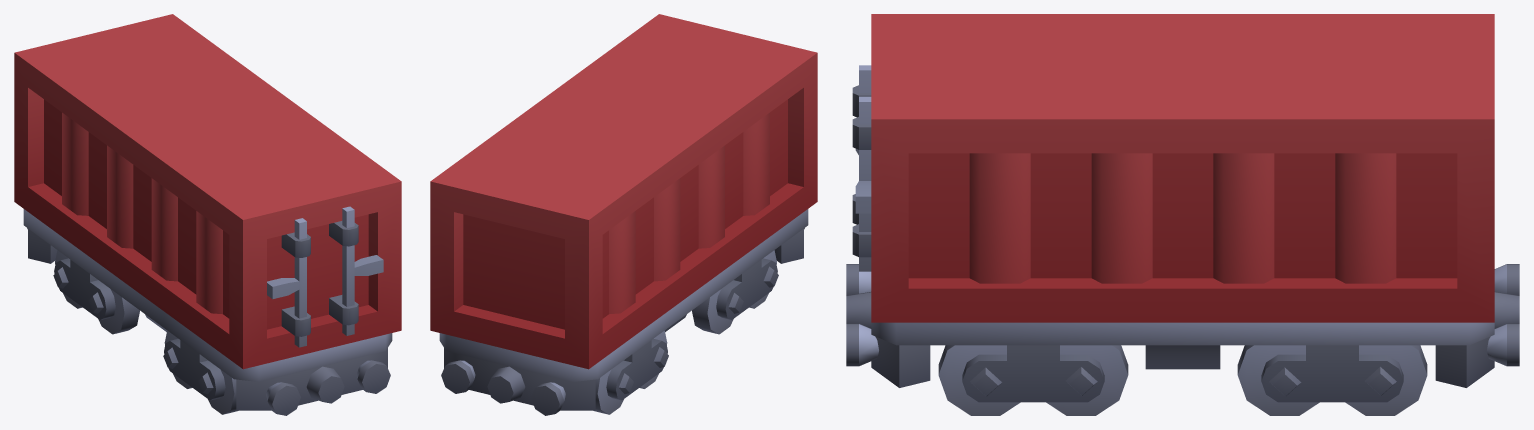
The model's file is train-carriage-container-red.glb.
The picture shows the model from 3 angles, left to right: view 1: azimuth 30°, elevation 25°; view 2: azimuth 150°, elevation 25°; view 3: azimuth 270°, elevation 25°; orthographic projection. The views are drawn at different scales.
Visible parts, largest first — view 1: cargo, train-carriage-container-red, wheels-back, wheels-front; view 2: cargo, train-carriage-container-red, wheels-front, wheels-back; view 3: cargo, train-carriage-container-red, wheels-back, wheels-front.
Part boxes in pixels (box(x1,y1,x2,y2)): cargo: box(14, 14, 401, 369); train-carriage-container-red: box(23, 209, 392, 415); wheels-back: box(53, 250, 139, 334); wheels-front: box(163, 330, 238, 414); cargo: box(430, 14, 817, 369); train-carriage-container-red: box(439, 209, 808, 415); wheels-front: box(692, 250, 778, 334); wheels-back: box(593, 330, 668, 414); cargo: box(852, 14, 1494, 322); train-carriage-container-red: box(846, 264, 1519, 387); wheels-back: box(1237, 345, 1427, 415); wheels-front: box(938, 345, 1128, 415).
Bounding box in the file's own units: 1 × 1.36 × 2.7.
